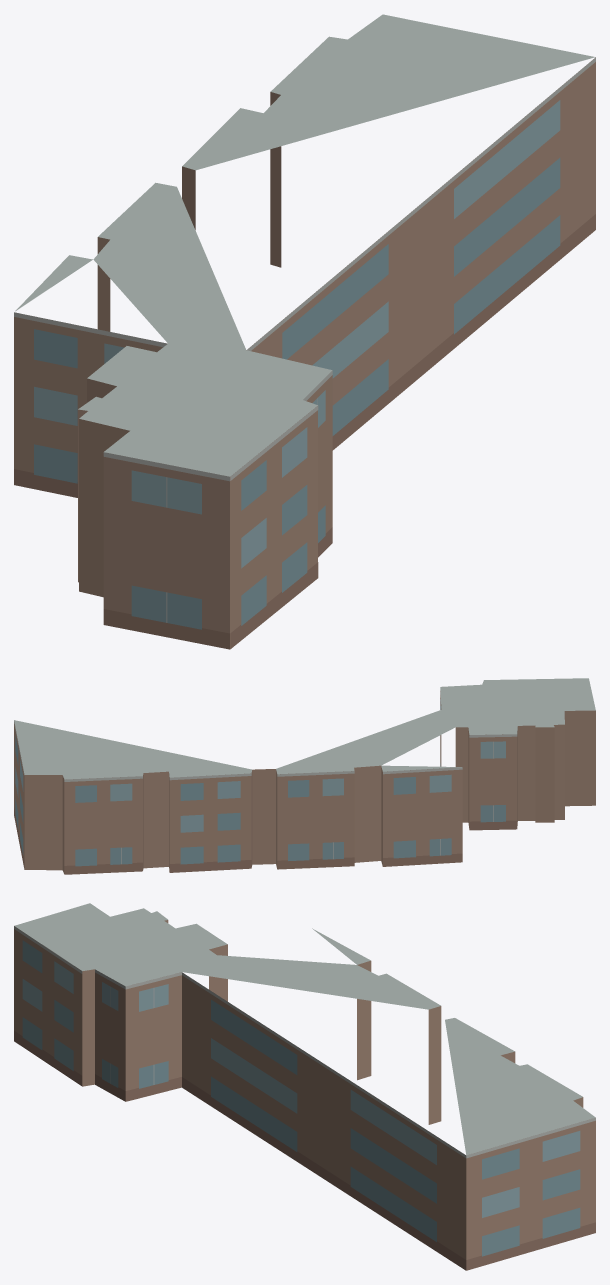
Rendered from survey-upis-32976575.glb.
3 views of the same model, one above another, from view 1: azimuth 30°, elevation 25°; view 2: azimuth 150°, elevation 25°; view 3: azimuth 270°, elevation 25° (orthographic). The views are drawn at different scales.
Visible parts, largest first — view 1: survey-upis-32976575.tmp; view 2: survey-upis-32976575.tmp; view 3: survey-upis-32976575.tmp.
Boxes of the visible parts, left/top/right/bottom form: survey-upis-32976575.tmp: left=14, top=14, right=595, bottom=649; survey-upis-32976575.tmp: left=14, top=678, right=595, bottom=874; survey-upis-32976575.tmp: left=14, top=903, right=595, bottom=1270.
Size of the model in its own units: 42.9 by 9.15 by 41.82.
